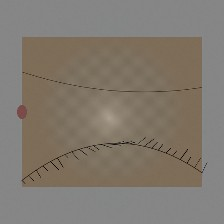hemorrhage_spot: (78, 86, 159, 151)
